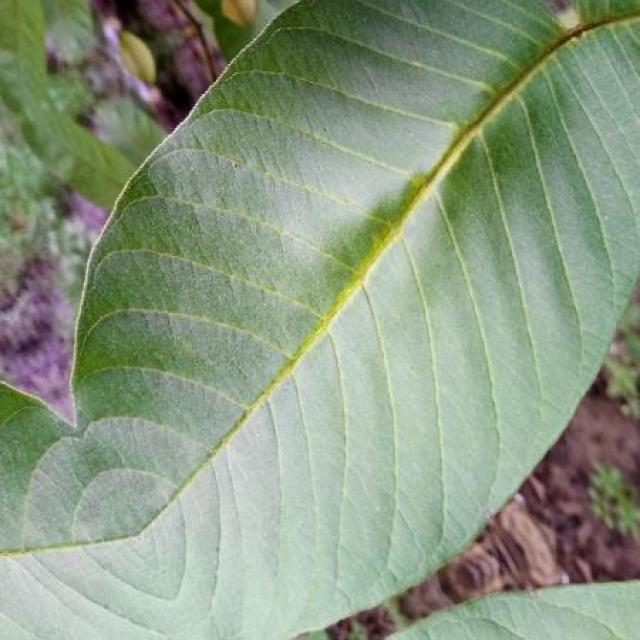Disease Free: (0, 0, 640, 640)
